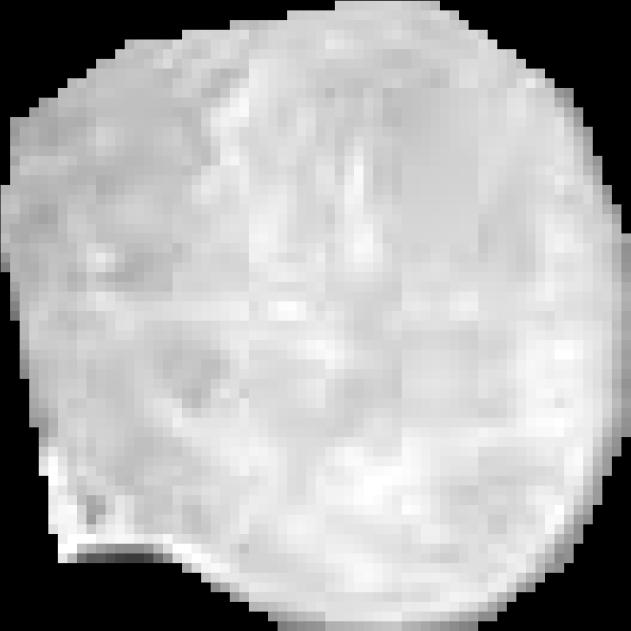tumor_less_chance: (1, 1, 631, 631)
